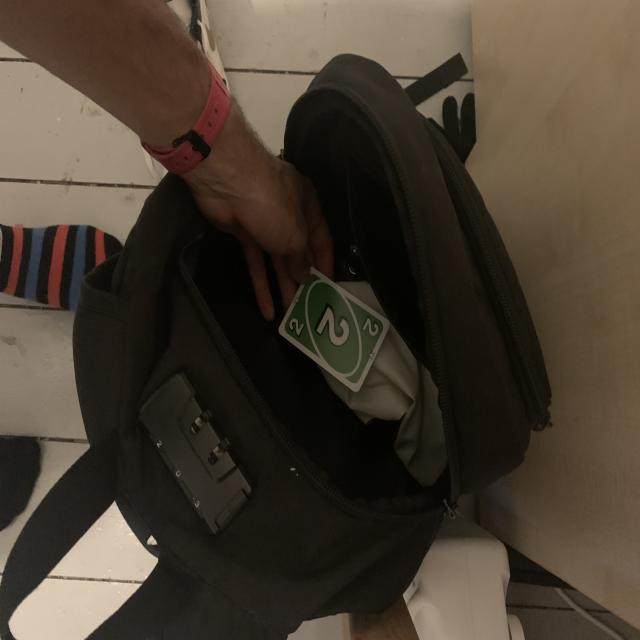lgreen-2: (288, 315, 308, 338)
